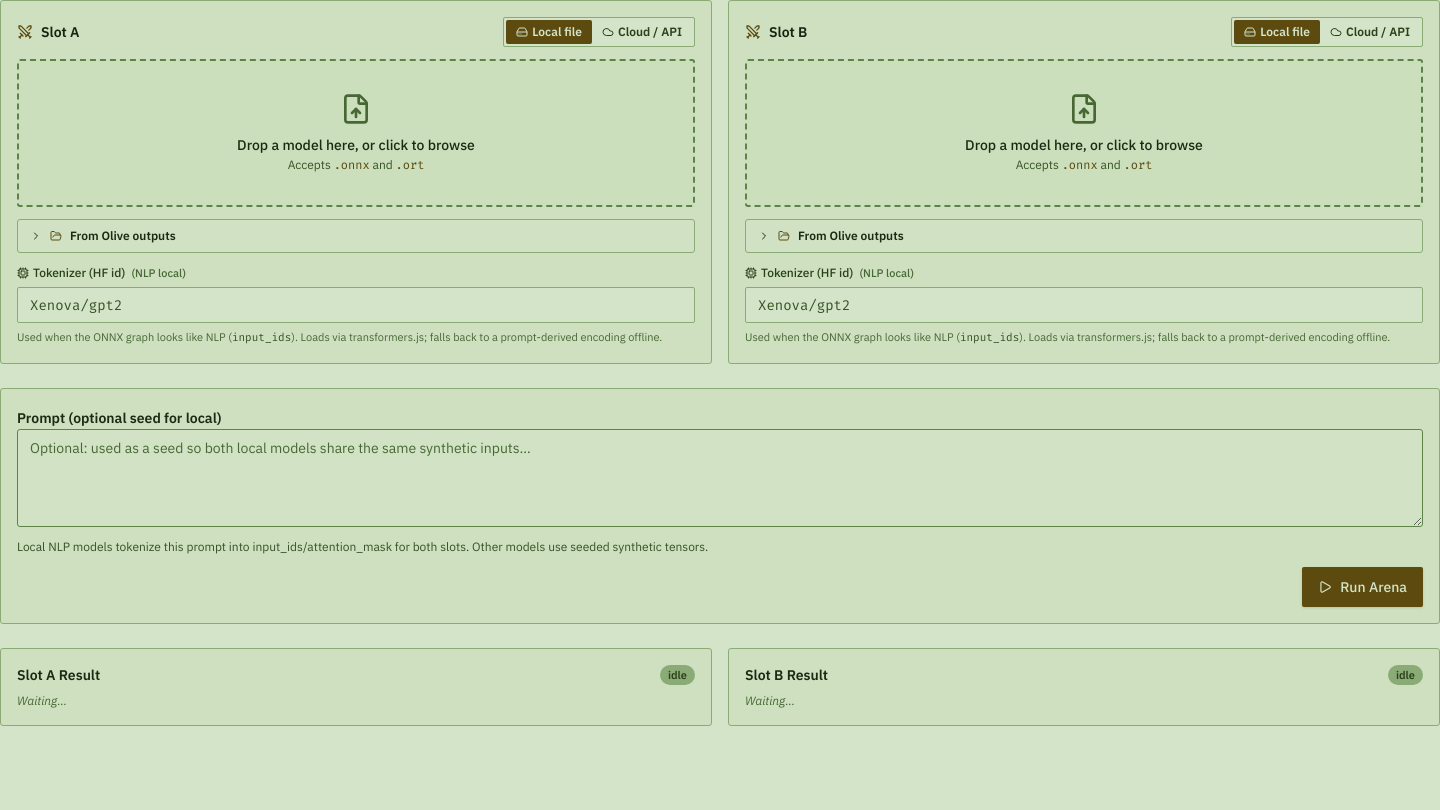
Scenario: ArenaPanel › selecting Cloud / API renders endpoint, API key, and model ID inputs
Click the 1st button "Cloud / API" at (642, 32), box [592,20,692,44]
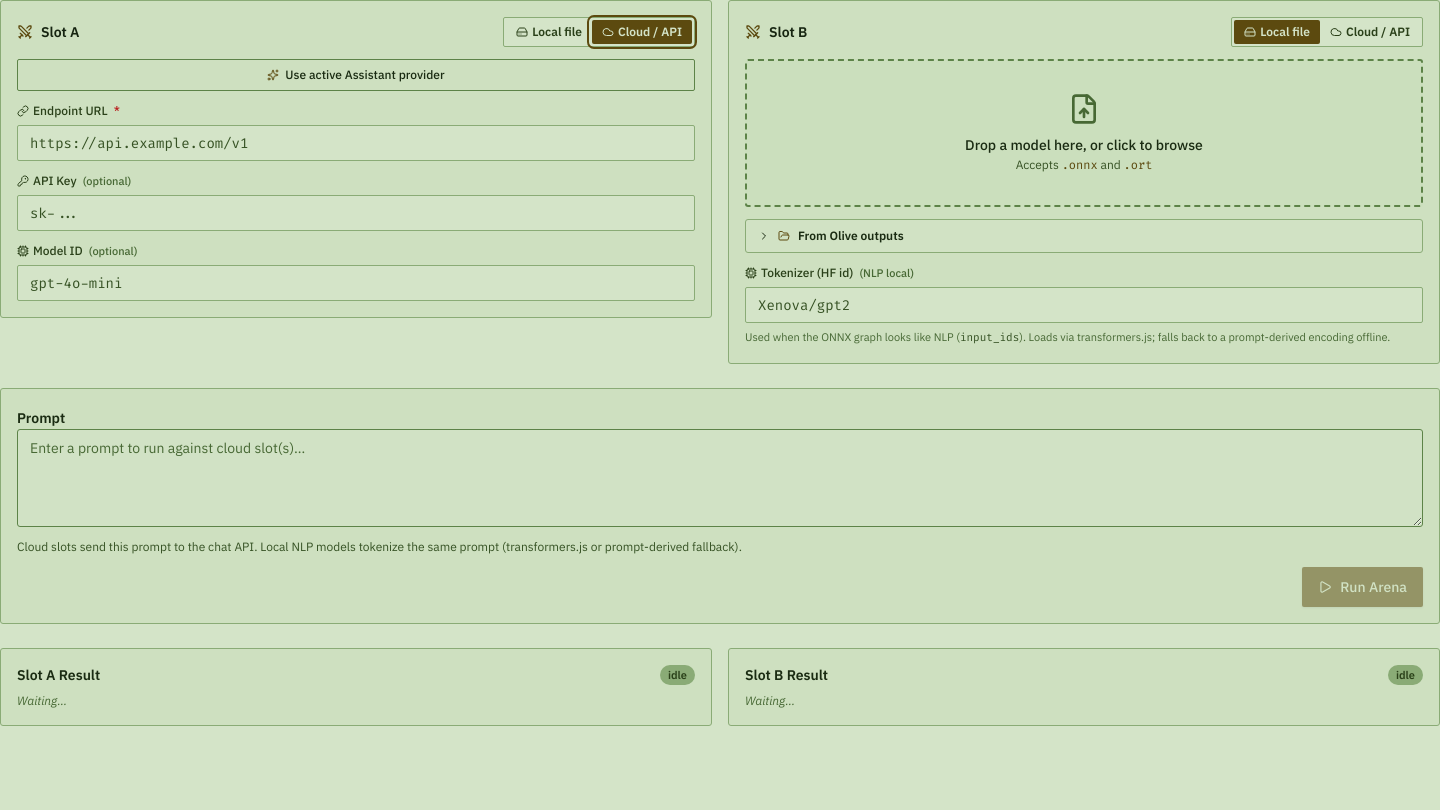
Expected: the password field labelled "API Key (optional)" is shown, [17,195,695,231]
Now the field labelled "Endpoint URL *" is shown, box [17,125,695,161]
Now the field labelled "Model ID (optional)" is shown, box [17,265,695,301]
